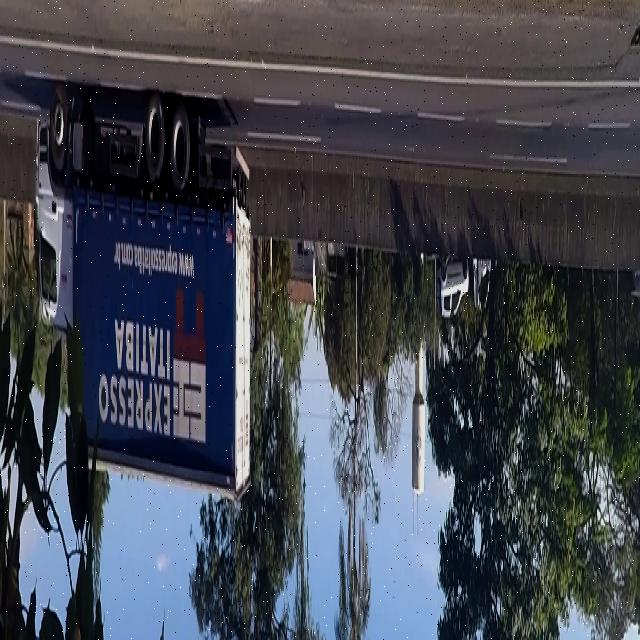-axle: (49, 75, 70, 171), (147, 84, 165, 190), (172, 96, 190, 197)
